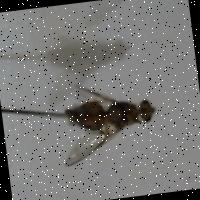Oriental-fruit-fly: (39, 48, 180, 178)
